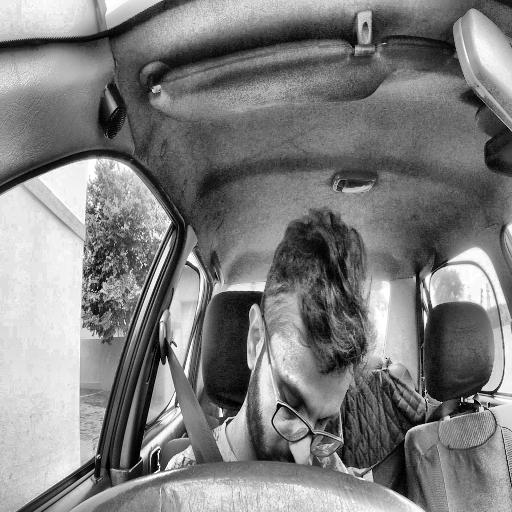drowsy: (243, 209, 376, 472)
